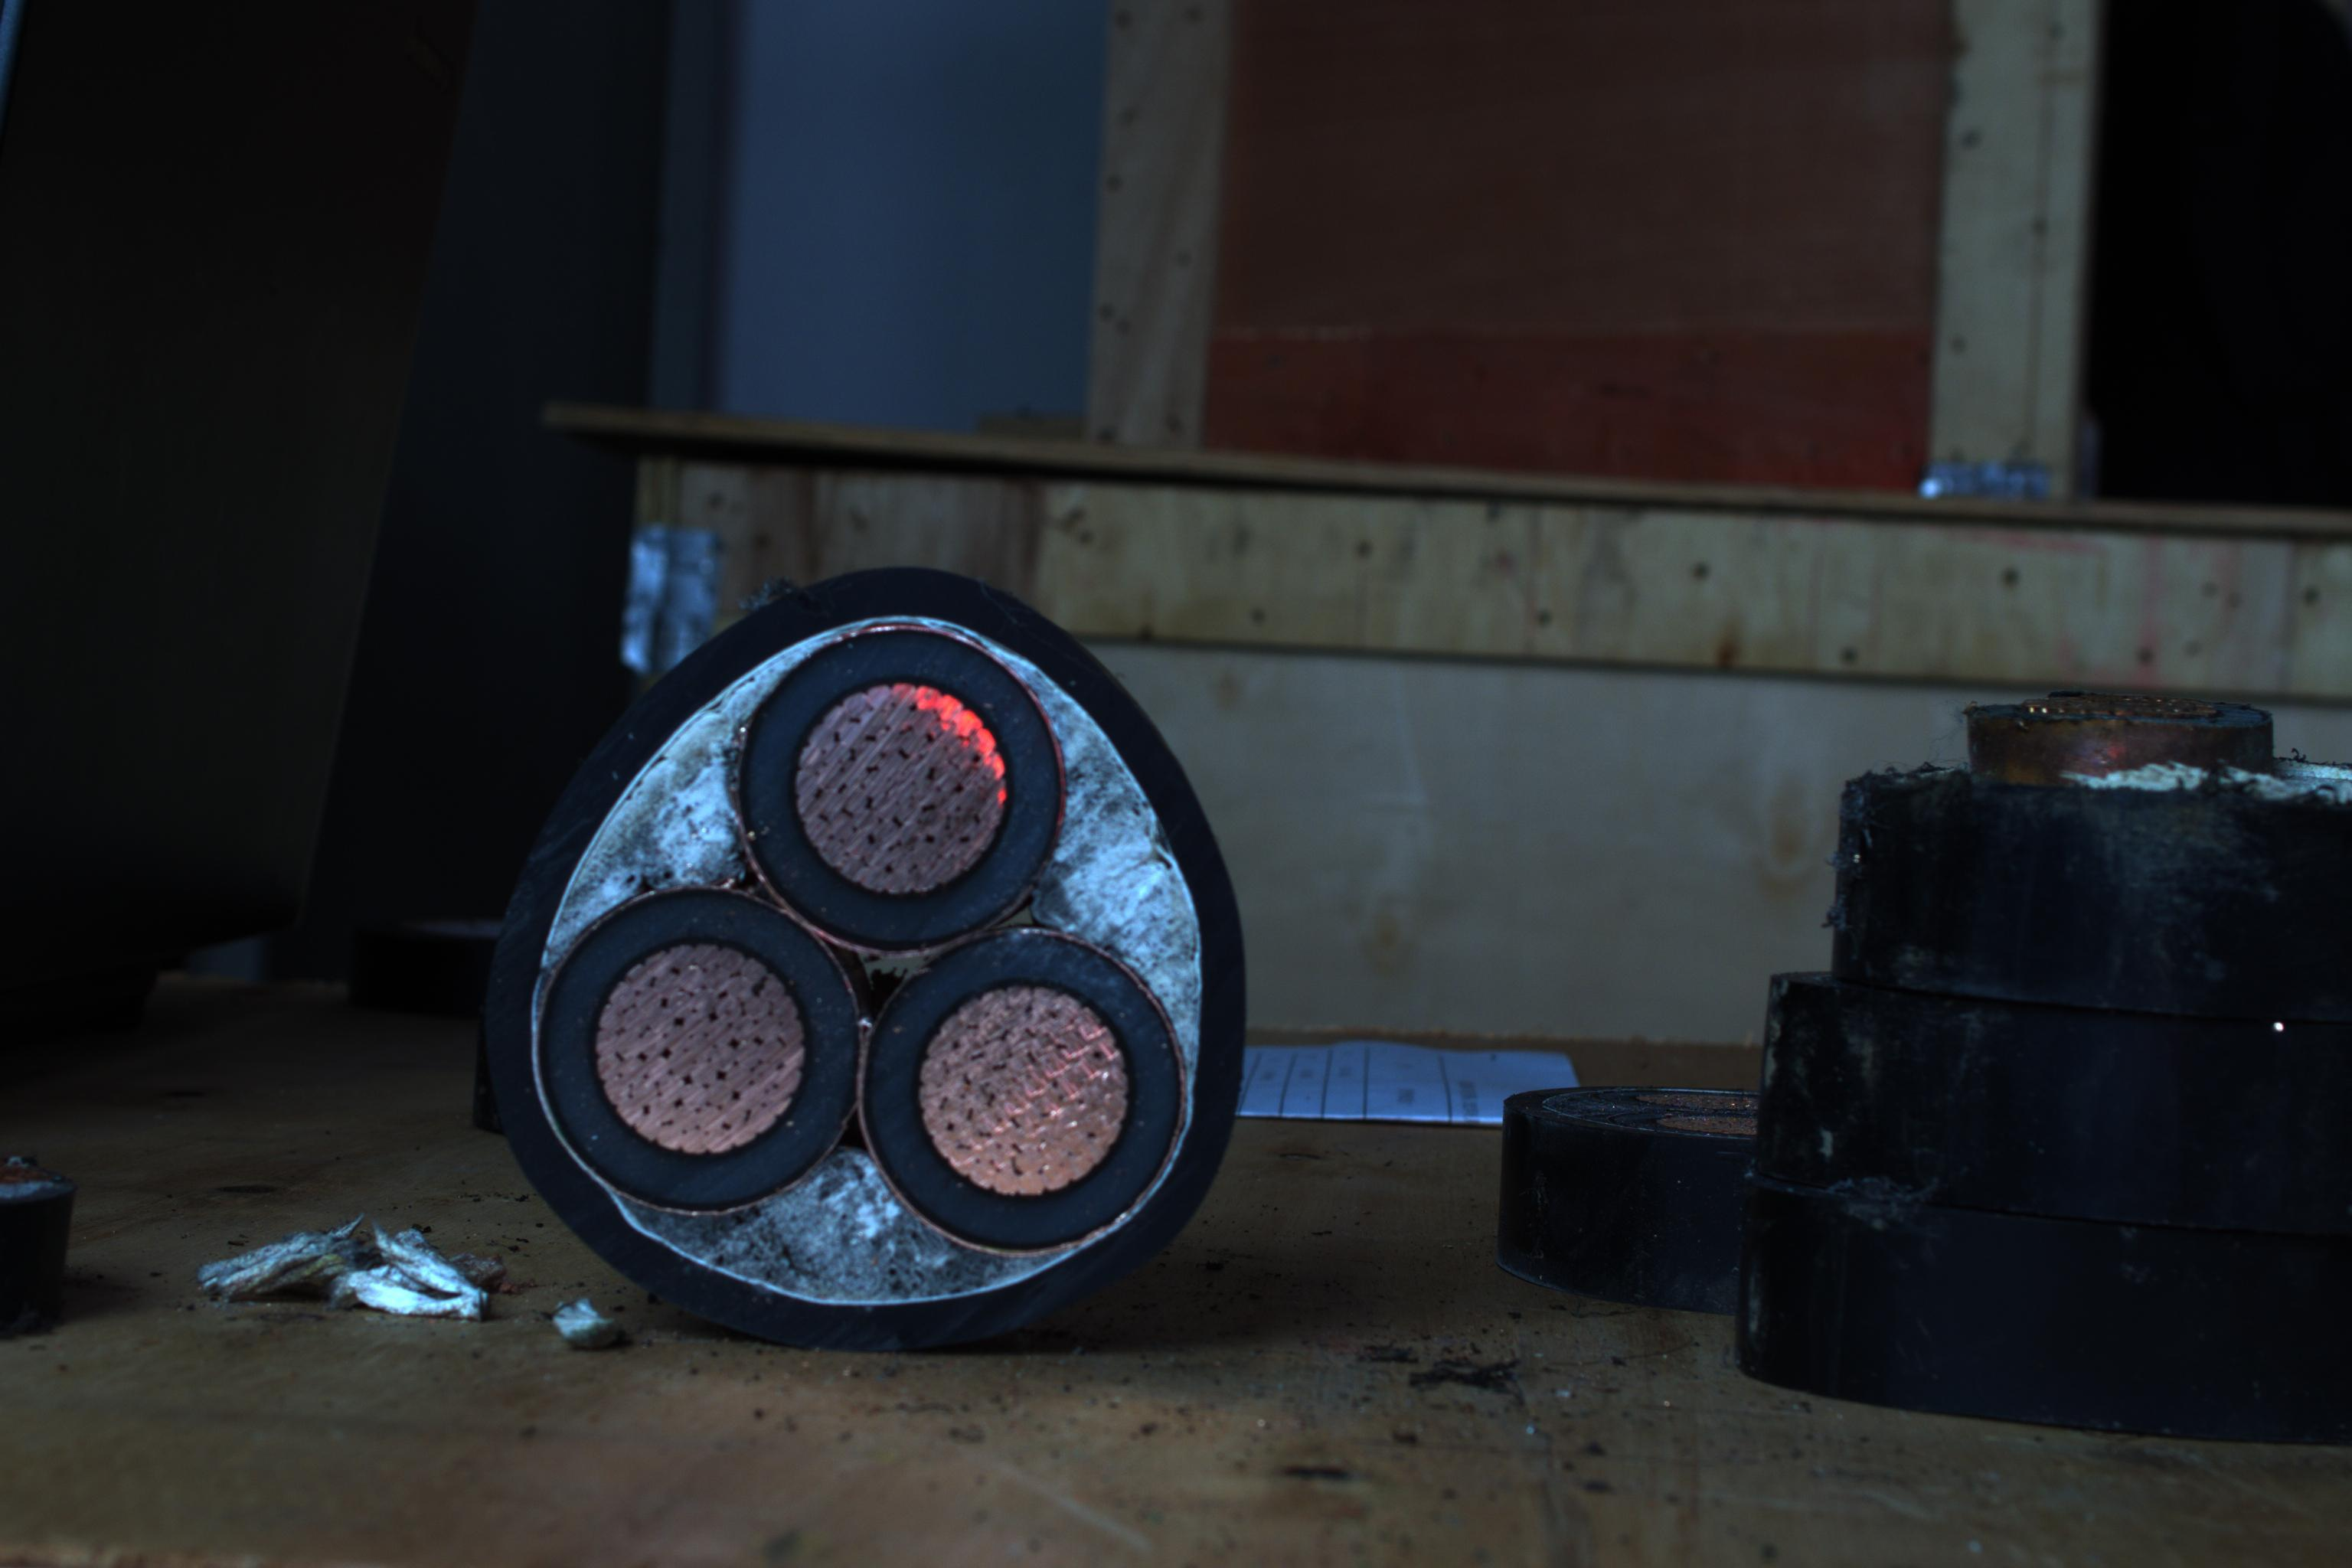ZA_YJV_8.7_10kV_3x400: (499, 588, 1241, 1332)
